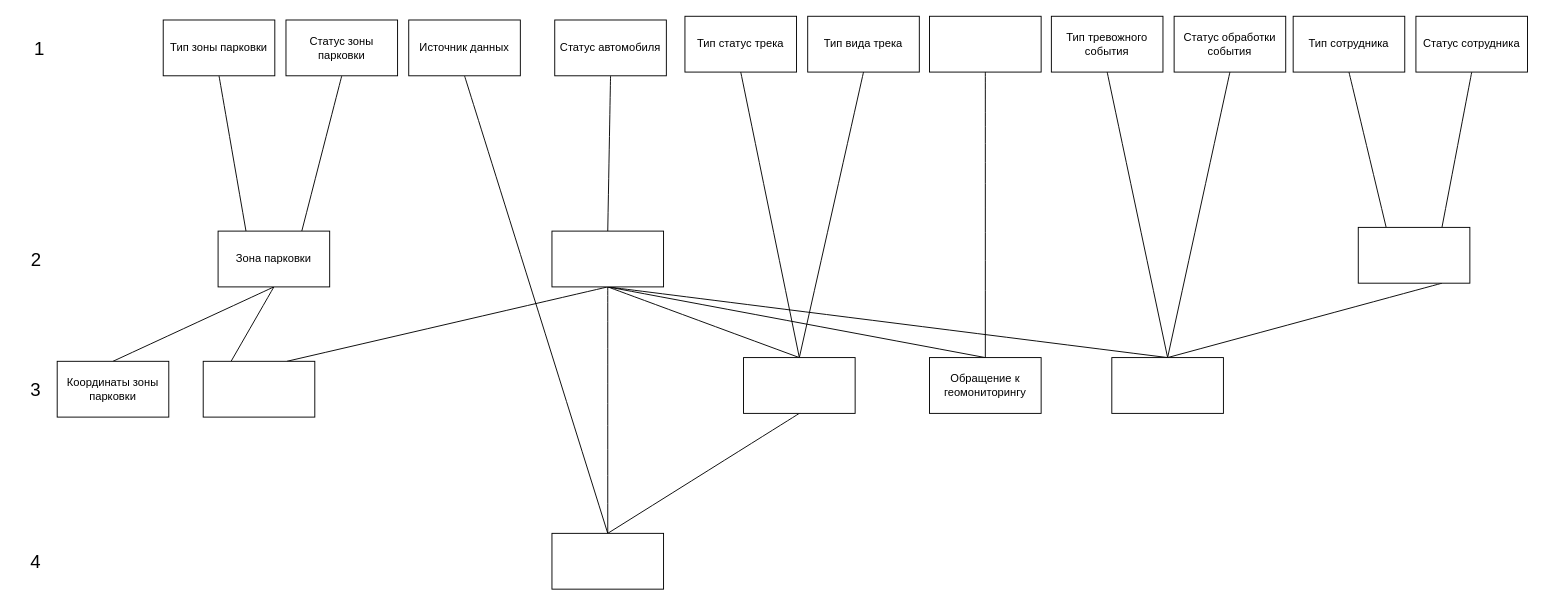
This 1544x605 diagram has some shape labels left out. Each missing label, with the centre of its shape:
"Автомобиль" goes at point 607,258.
"Координаты точки трека" goes at point 607,560.
"Парковочная сессия" goes at point 258,388.
"Сотрудник" goes at point 1413,254.
"Тип обращения к геомониторингу" goes at point 985,43.
"Тревожное событие" goes at point 1167,385.
"Трек движения" goes at point 799,385.
